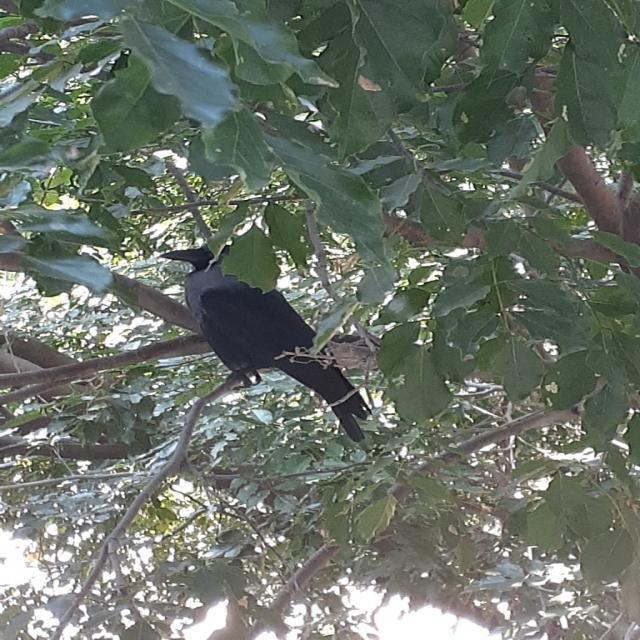bird: (156, 236, 380, 449)
